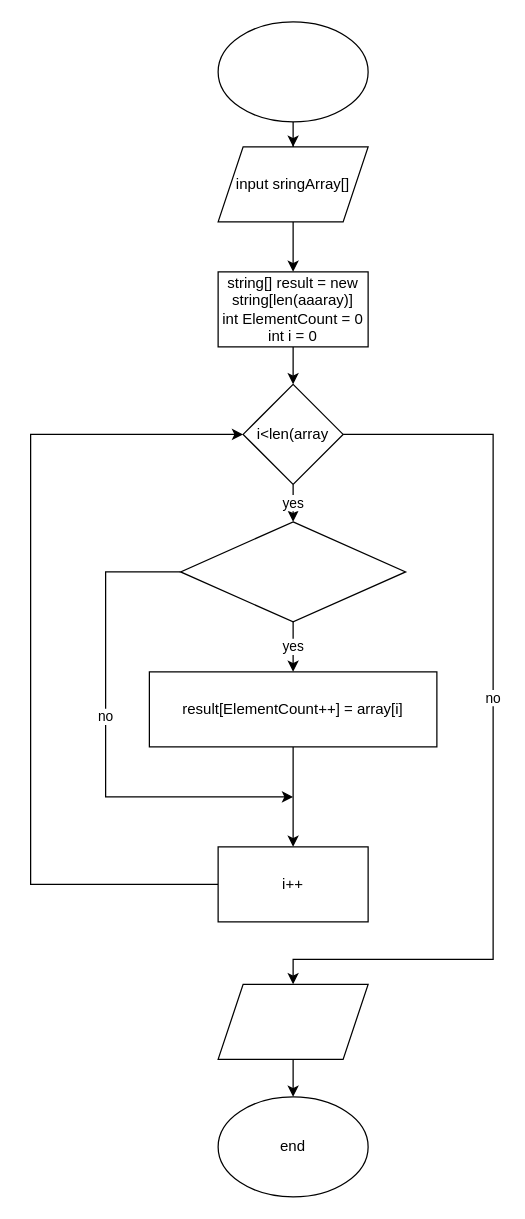
This 525x1219 diagram has some shape labels left out. The centre of each missing label's shape, as x and y in pixels:
"len(array[i] <=3" belongs at [292,571].
"return result" belongs at [292,1021].
"Start" belongs at [292,71].
